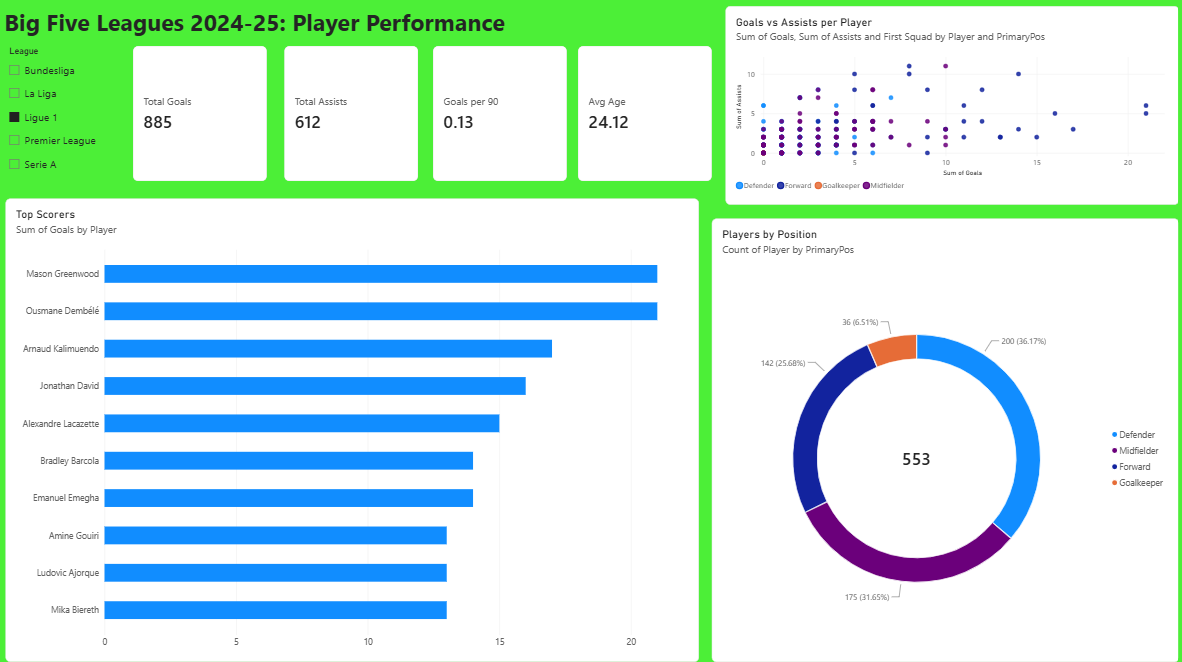

The dashboard page shown, as its layout file describes it:
{"tool":"powerbi","page":{"name":"Page 1","canvas":[1920,1080],"ordinal":0},"visuals":[{"type":"cardVisual","fields":{"Data":["players_clean.Total Goals"]},"box":[217.9,80.7,216.1,218.2],"z":0},{"type":"cardVisual","fields":{"Data":["players_clean.Total Assists"]},"box":[461.9,80.7,216.1,218.2],"z":1000},{"type":"cardVisual","fields":{"Data":["players_clean.Goals per 90"]},"box":[702,80.7,216.1,218.2],"z":2000},{"type":"cardVisual","fields":{"Data":["players_clean.Avg Age"]},"box":[936,80.7,216.1,218.2],"z":3000},{"type":"clusteredBarChart","title":"Top Scorers","fields":{"Category":["players_clean.Player"],"Y":["Sum(players_clean.Goals)"]},"box":[12.1,326.8,1119.6,748.4],"z":4000},{"type":"donutChart","title":"Players by Position","fields":{"Category":["players_clean.PrimaryPos"],"Y":["CountNonNull(players_clean.Player)"]},"box":[1151.8,359.1,754.4,716.1],"z":5000},{"type":"scatterChart","title":"Goals vs Assists per Player","fields":{"Category":["players_clean.Player"],"Series":["players_clean.PrimaryPos"],"X":["Sum(players_clean.Goals)"],"Y":["Sum(players_clean.Assists)"]},"box":[1174,16.1,732.3,320.7],"z":6000},{"type":"slicer","fields":{"Values":["players_clean.League"]},"box":[10.1,80.7,415.6,246.1],"z":7000},{"type":"textbox","box":[10.1,16.1,851.3,98.8],"z":8000}]}

Visuals, with their boxes in screenshot pixels (x1, y1, x2, y2), scaled from the page's 1920x1080 canvas onto the 1182x662 screenshot:
cardVisual - players_clean.Total Goals: box(134, 49, 267, 183)
cardVisual - players_clean.Total Assists: box(284, 49, 417, 183)
cardVisual - players_clean.Goals per 90: box(432, 49, 565, 183)
cardVisual - players_clean.Avg Age: box(576, 49, 709, 183)
"Top Scorers" clusteredBarChart: box(7, 200, 697, 659)
"Players by Position" donutChart: box(709, 220, 1174, 659)
"Goals vs Assists per Player" scatterChart: box(723, 10, 1174, 206)
slicer - players_clean.League: box(6, 49, 262, 200)
textbox: box(6, 10, 530, 70)
